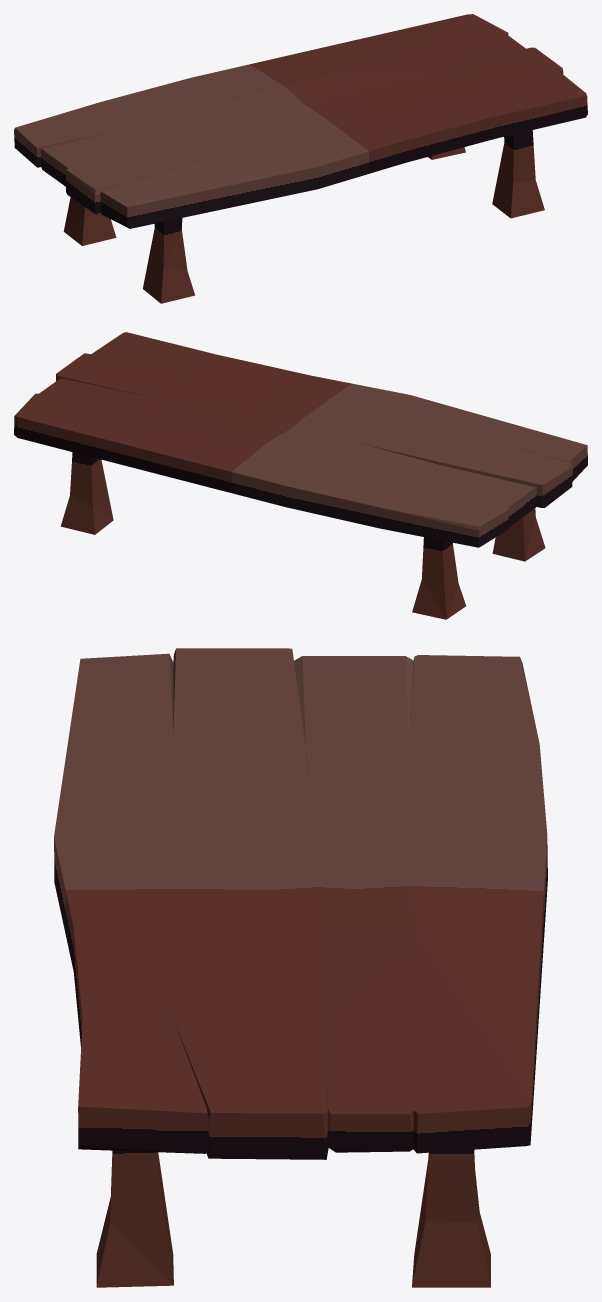
File: Table.fbx
The picture shows the model from 3 angles, top to bottom: view 1: azimuth 30°, elevation 25°; view 2: azimuth 150°, elevation 25°; view 3: azimuth 270°, elevation 25°; orthographic projection. The views are drawn at different scales.
Parts seen in each view (by area): view 1: Table; view 2: Table; view 3: Table.
Boxes of the visible parts, x1,y1,x2,y2 form: Table: [14, 14, 587, 303]; Table: [14, 332, 587, 619]; Table: [54, 648, 547, 1287].
Size of the model in its own units: 1473 by 333 by 660.
